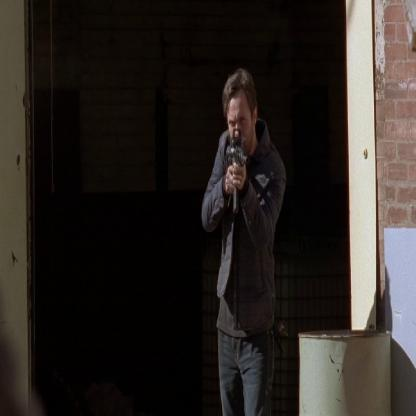Guns: (222, 124, 249, 218)
